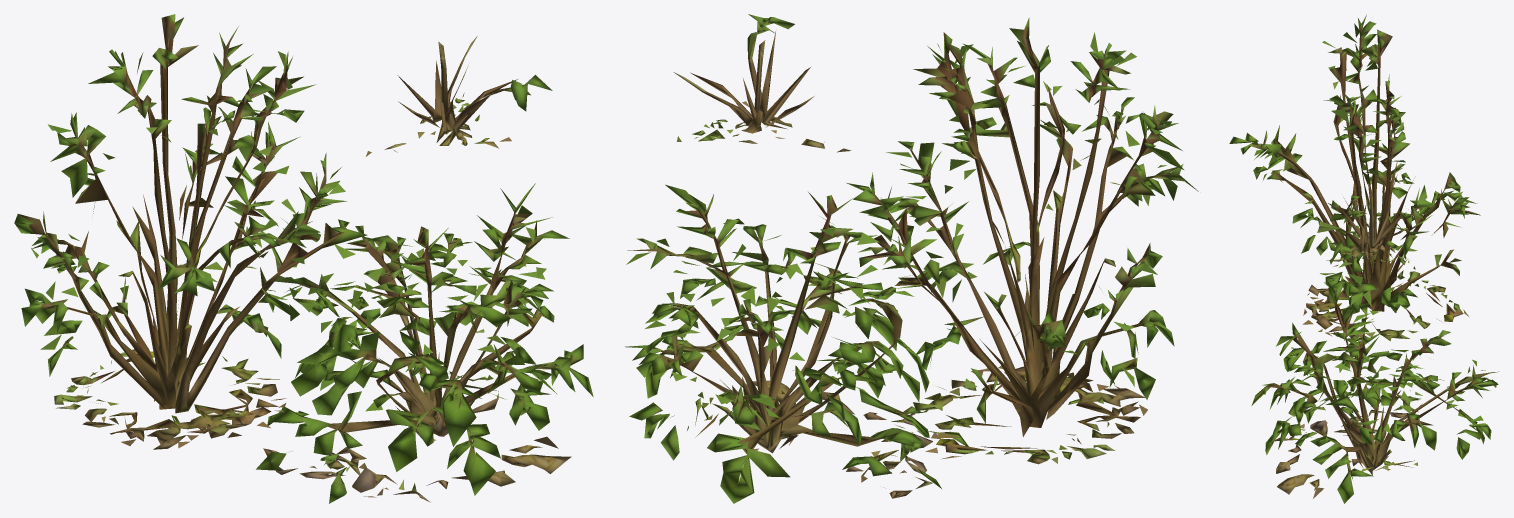
The model's file is shrub_lods.glb.
3 renders of one model, left to right at view 1: azimuth 30°, elevation 25°; view 2: azimuth 150°, elevation 25°; view 3: azimuth 270°, elevation 25°, orthographic. The views are drawn at different scales.
Parts seen in each view (by area): view 1: shrub_0_lod0; view 2: shrub_0_lod0; view 3: shrub_0_lod0.
Boxes of the visible parts, x1,y1,x2,y2 form: shrub_0_lod0: (14,14,593,503); shrub_0_lod0: (625,14,1198,503); shrub_0_lod0: (1229,14,1498,503).
Size of what is drawn, in the model's own units: 1.14 by 0.9684 by 0.6777.
Materials: 1 (1 with a texture image).
